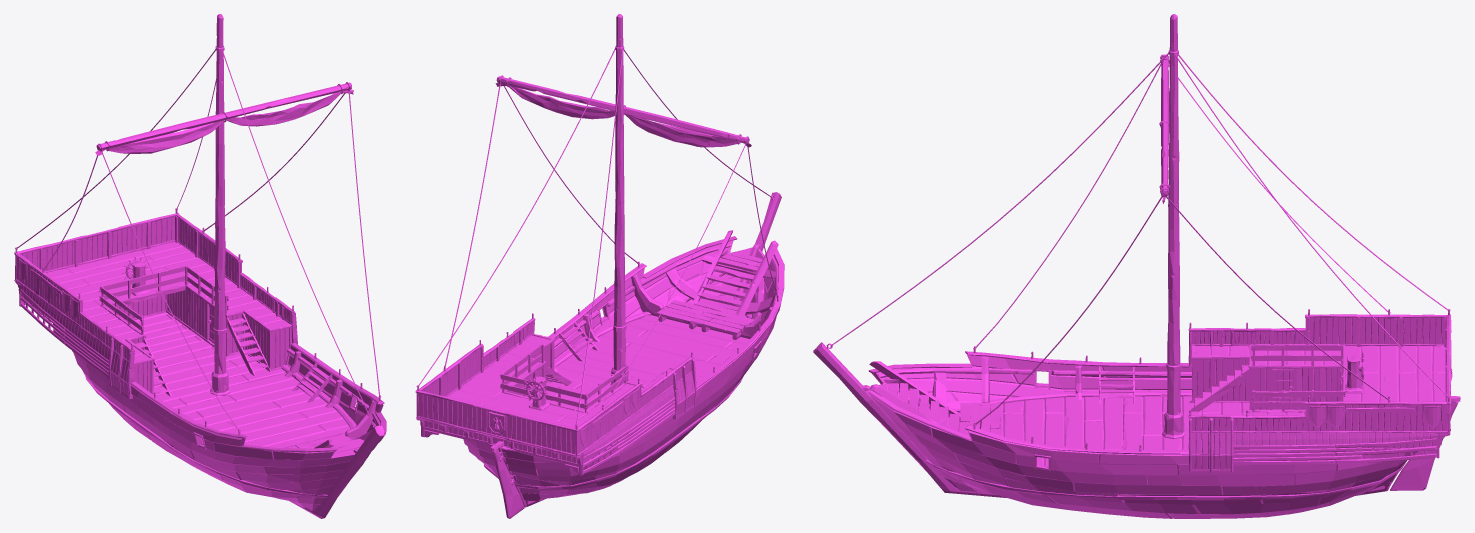
Rendered from SM_Ship_Big_Folded_Fantasy.fbx.
3 renders of one model, left to right at view 1: azimuth 30°, elevation 25°; view 2: azimuth 150°, elevation 25°; view 3: azimuth 270°, elevation 25°, orthographic. The views are drawn at different scales.
Parts seen in each view (by area): view 1: SM_Ship_Big_Folded_Fantasy_Base; view 2: SM_Ship_Big_Folded_Fantasy_Base, SM_Ship_Big_Folded_Fantasy_Rudder; view 3: SM_Ship_Big_Folded_Fantasy_Base, SM_Ship_Big_Folded_Fantasy_Rudder.
Part boxes in pixels (x1,y1,x2,y2): SM_Ship_Big_Folded_Fantasy_Base: (14, 14, 386, 518); SM_Ship_Big_Folded_Fantasy_Base: (415, 14, 784, 507); SM_Ship_Big_Folded_Fantasy_Rudder: (492, 449, 524, 518); SM_Ship_Big_Folded_Fantasy_Base: (813, 14, 1460, 518); SM_Ship_Big_Folded_Fantasy_Rudder: (1390, 401, 1458, 490).
Bounding box in the file's own units: 14.33 × 23.37 × 27.89.
